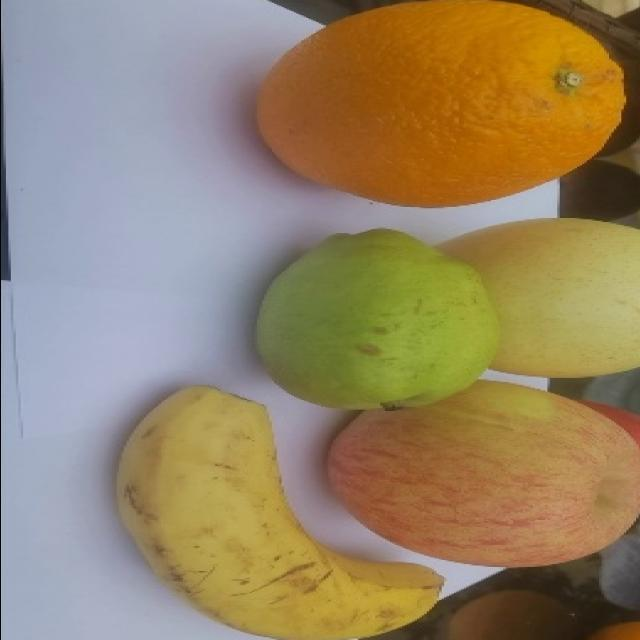Apple: (325, 379, 639, 568)
Banana: (115, 383, 445, 639)
Orange: (255, 0, 627, 208)
